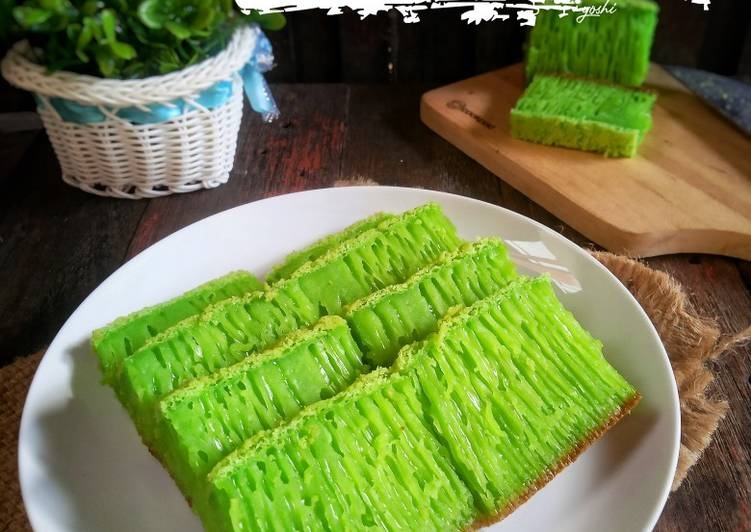bika_ambon: (382, 275, 628, 516), (499, 68, 672, 161)
